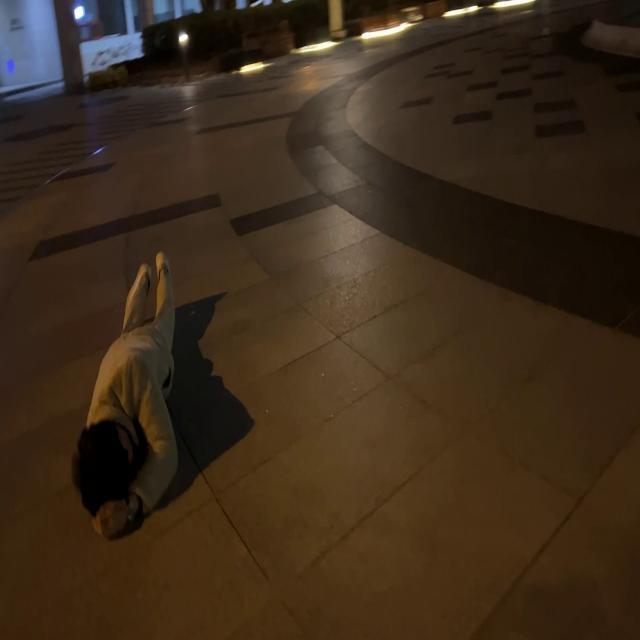Fall: (72, 253, 178, 540)
